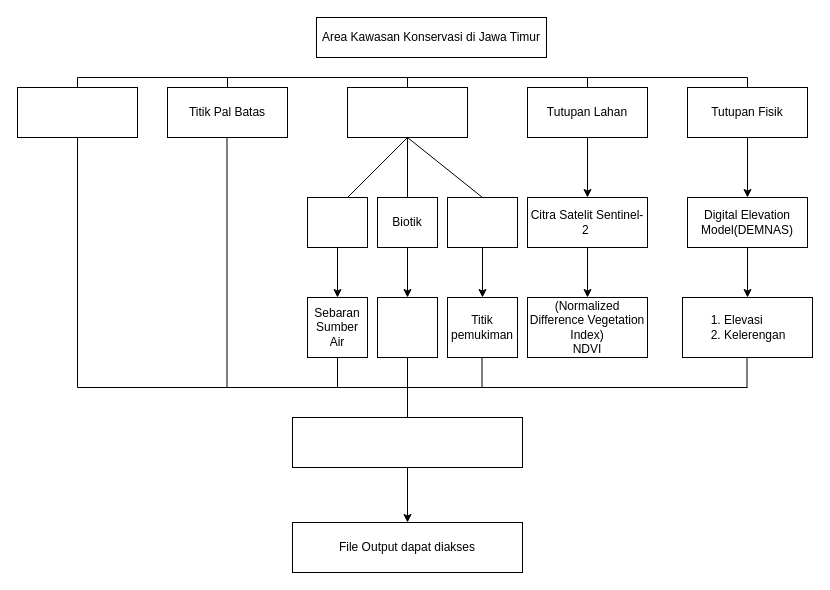
The diagram is 830 pixels wide and 590 high, and some of its shapes have lost their labels. The shapes that lost their labels are listed below. From the top down, each one's box as (x1, y1, x2, y2) in pixels, then its label:
(16, 86, 138, 138): Polygon Kawasan Konservasi
(346, 86, 468, 138): Titik Potensi
(306, 196, 368, 248): Abiotik
(446, 196, 518, 248): Culture
(376, 296, 438, 358): Titik Flora & Fauna
(292, 416, 522, 468): Google Drive
